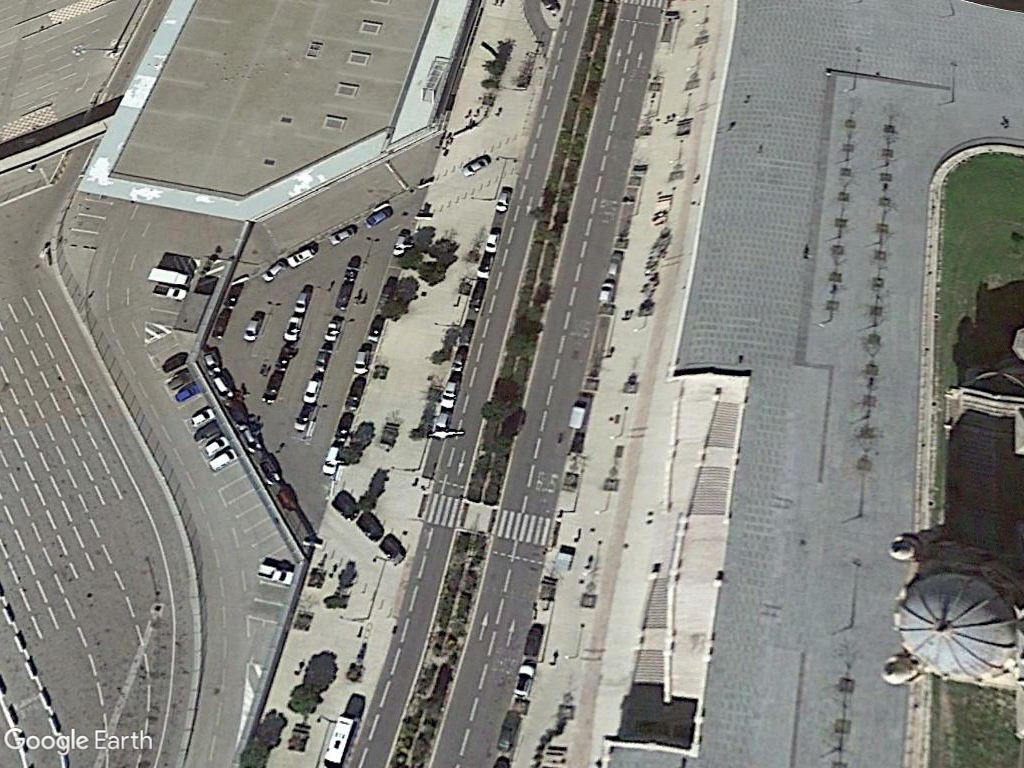car: (283, 240, 321, 270), (149, 280, 192, 304), (241, 309, 265, 346), (326, 223, 360, 246), (363, 204, 398, 226), (459, 156, 494, 175)
